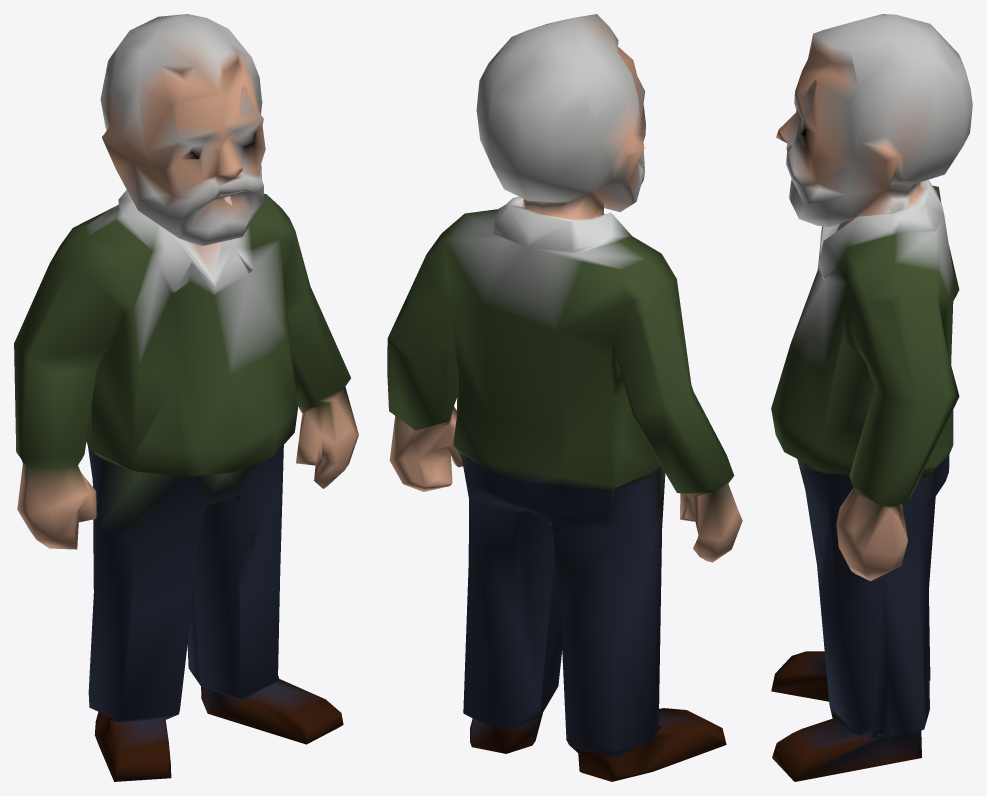
File: gen3d-grandpa-lod1.glb
3 views of the same model, side by side, from view 1: azimuth 30°, elevation 25°; view 2: azimuth 150°, elevation 25°; view 3: azimuth 270°, elevation 25° (orthographic). The views are drawn at different scales.
Visible parts, largest first — view 1: part_0; view 2: part_0; view 3: part_0.
Part boxes in pixels (<box>): part_0: <box>14,14,358,781</box>; part_0: <box>387,14,742,781</box>; part_0: <box>771,14,972,781</box>.
Size of the model in its own units: 0.4933 by 0.9995 by 0.2588.
